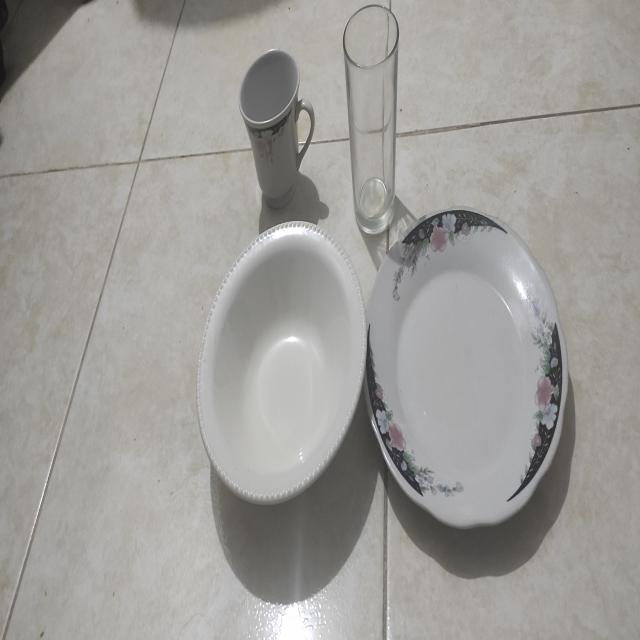non-organic waste: (363, 196, 577, 536), (191, 211, 370, 509)
